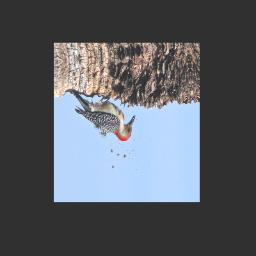Woodpecker: (69, 79, 138, 149)
